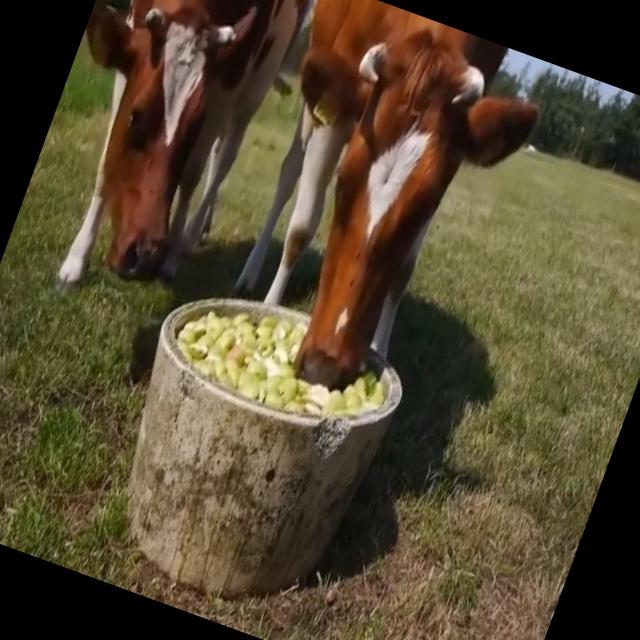cow: (236, 0, 538, 389), (58, 0, 309, 284)
